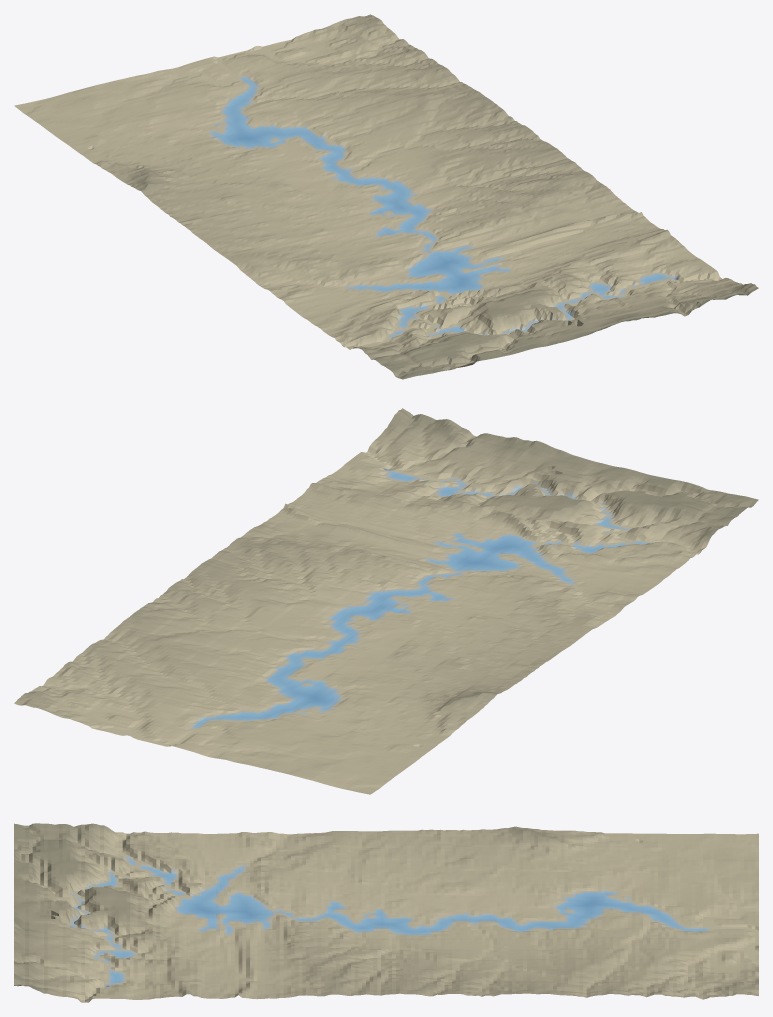
Rendered from flaming_gorge_wy.glb.
The picture shows the model from 3 angles, top to bottom: view 1: azimuth 30°, elevation 25°; view 2: azimuth 150°, elevation 25°; view 3: azimuth 270°, elevation 25°; orthographic projection. The views are drawn at different scales.
Parts seen in each view (by area): view 1: terrain, water; view 2: terrain, water; view 3: terrain, water.
Part boxes in pixels (<box>): terrain: <box>14,14,758,379</box>; water: <box>213,78,666,333</box>; terrain: <box>14,408,758,794</box>; water: <box>194,472,641,727</box>; terrain: <box>14,823,758,1002</box>; water: <box>71,861,706,982</box>.
Size of the model in its own units: 27775 by 1455 by 52472.
